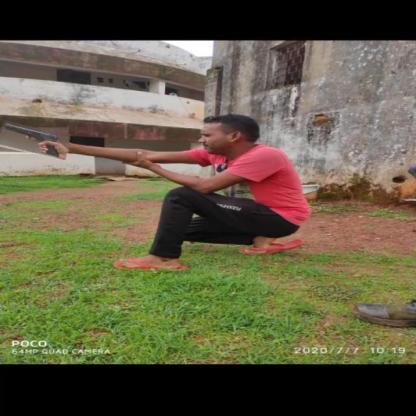handgun: (0, 124, 70, 158)
